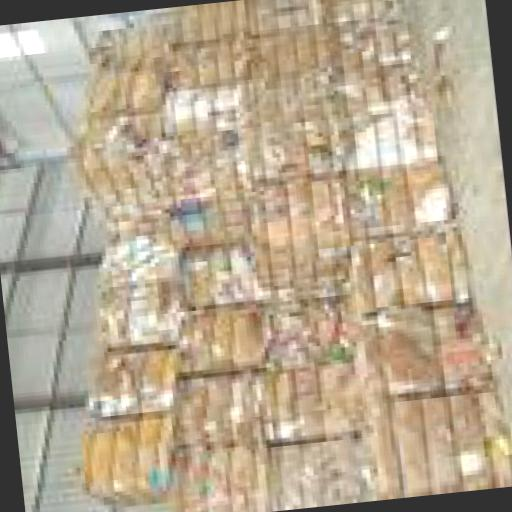cardboard: (55, 20, 180, 238), (145, 34, 245, 240), (232, 24, 344, 180), (328, 10, 438, 166), (252, 280, 342, 360), (378, 302, 444, 400), (240, 176, 296, 289), (91, 208, 177, 280), (308, 170, 359, 286), (435, 304, 494, 385), (280, 174, 317, 296), (68, 416, 113, 512), (154, 0, 250, 45), (447, 386, 489, 488), (418, 385, 458, 491), (128, 410, 173, 502), (347, 311, 391, 398), (315, 354, 362, 434), (410, 220, 457, 300), (402, 156, 454, 228), (360, 400, 398, 498), (437, 214, 478, 304), (323, 430, 374, 502), (159, 442, 211, 512), (392, 400, 430, 494), (288, 357, 330, 437), (164, 374, 208, 450), (192, 368, 235, 444), (103, 410, 137, 505), (133, 342, 179, 412), (366, 233, 406, 312), (340, 170, 386, 238), (194, 436, 234, 512), (294, 430, 334, 504), (343, 240, 379, 318), (172, 302, 212, 372), (104, 342, 140, 416), (117, 276, 156, 342), (390, 227, 422, 306), (228, 296, 266, 360), (486, 384, 510, 484), (85, 274, 120, 342), (264, 438, 298, 508), (80, 344, 116, 410), (223, 438, 255, 512), (170, 242, 205, 309), (384, 164, 412, 246), (246, 0, 331, 27), (226, 236, 260, 299), (201, 304, 232, 370), (240, 360, 266, 438), (150, 278, 180, 344), (224, 370, 254, 436), (198, 240, 228, 306), (268, 365, 295, 438), (251, 360, 275, 440), (321, 0, 416, 20), (248, 436, 270, 510)
